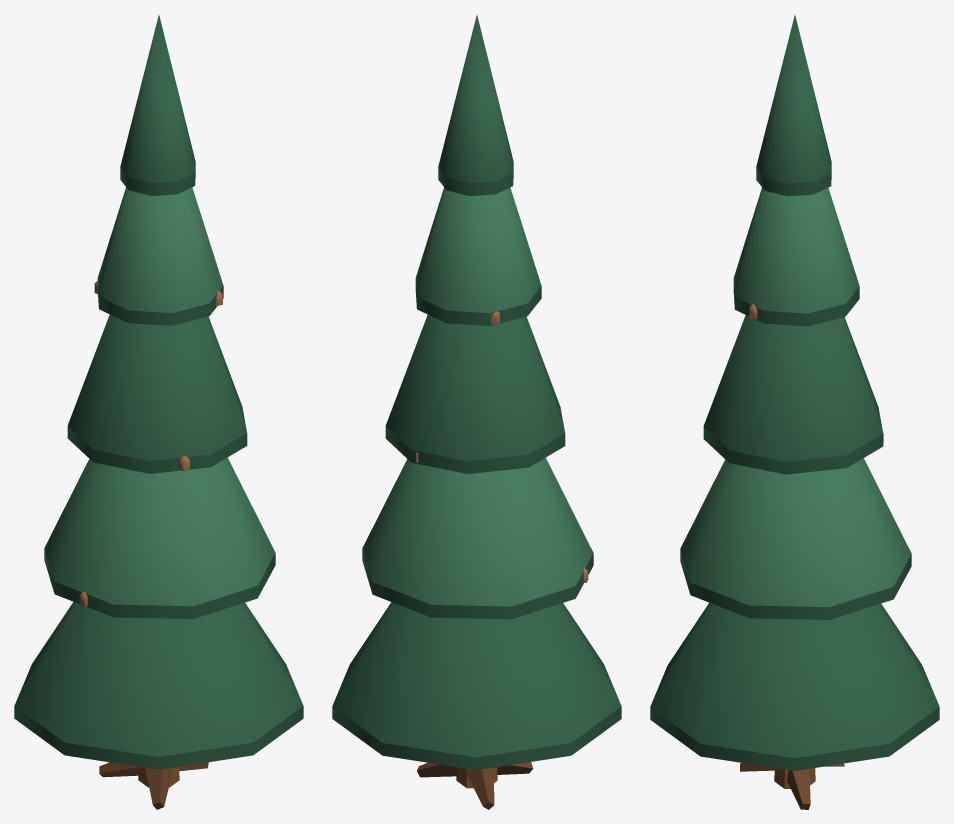
The model's file is fir_tree.glb.
3 views of the same model, side by side, from view 1: azimuth 30°, elevation 25°; view 2: azimuth 150°, elevation 25°; view 3: azimuth 270°, elevation 25° (orthographic).
Visible parts, largest first — view 1: fir_tree; view 2: fir_tree; view 3: fir_tree.
Boxes of the visible parts, x1,y1,x2,y2 form: fir_tree: [14, 15, 303, 809]; fir_tree: [332, 15, 621, 809]; fir_tree: [650, 15, 939, 809].
Size of the model in its own units: 3.03 by 9.06 by 3.08.
1 material, 1 textured.
